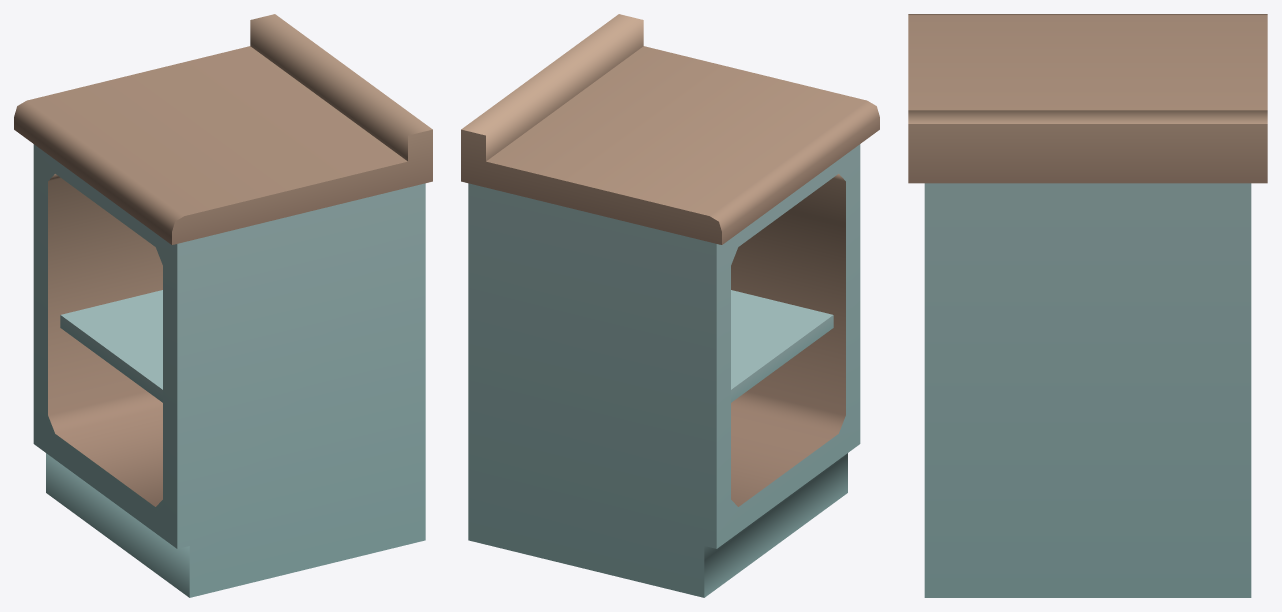
The model's file is cabinet-decorative-planks.glb.
3 renders of one model, left to right at view 1: azimuth 30°, elevation 25°; view 2: azimuth 150°, elevation 25°; view 3: azimuth 270°, elevation 25°, orthographic. The views are drawn at different scales.
Parts seen in each view (by area): view 1: cabinet-decorative-planks; view 2: cabinet-decorative-planks; view 3: cabinet-decorative-planks.
Boxes of the visible parts, x1,y1,x2,y2 form: cabinet-decorative-planks: (14, 14, 432, 597); cabinet-decorative-planks: (461, 14, 879, 597); cabinet-decorative-planks: (908, 14, 1267, 597).
Size of the model in its own units: 0.525 by 0.8 by 0.55.
